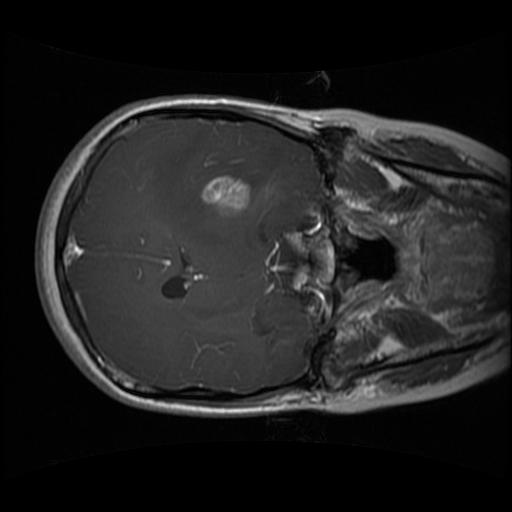glioma: (192, 168, 262, 221)
